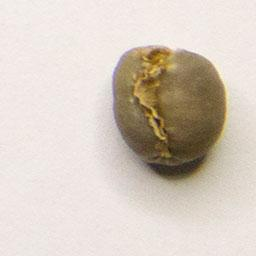peaberry: (109, 41, 229, 170)
